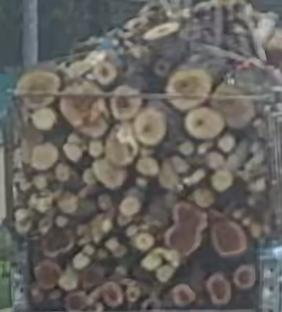large: (60, 80, 108, 138), (165, 200, 207, 256), (166, 69, 213, 110), (211, 86, 256, 128), (16, 70, 61, 106), (106, 124, 139, 166), (134, 106, 167, 146), (212, 219, 247, 256), (186, 107, 225, 139), (110, 85, 142, 120), (93, 158, 126, 189), (42, 227, 74, 258), (206, 273, 232, 306), (35, 259, 61, 289), (101, 281, 124, 307), (173, 284, 195, 306), (66, 292, 87, 311)
medium: (30, 143, 58, 170), (158, 159, 180, 190), (119, 197, 143, 221), (95, 61, 118, 85), (32, 108, 57, 130), (234, 264, 256, 288), (30, 193, 53, 213), (58, 267, 77, 291), (212, 170, 233, 191), (137, 156, 159, 176), (59, 192, 78, 214), (15, 209, 31, 234), (105, 237, 125, 257), (194, 188, 215, 207), (133, 232, 154, 251), (141, 252, 162, 270), (63, 143, 82, 162), (156, 265, 176, 283), (142, 292, 161, 309), (127, 282, 141, 303), (72, 253, 90, 269), (56, 162, 71, 181), (39, 213, 53, 233), (88, 140, 102, 158), (98, 195, 113, 210)
small: (184, 169, 205, 186), (206, 150, 225, 168), (218, 134, 236, 152), (172, 155, 189, 173), (154, 60, 171, 76), (249, 177, 266, 192), (179, 141, 195, 155), (55, 216, 68, 227), (82, 244, 95, 255), (126, 225, 138, 236), (102, 219, 112, 232), (137, 178, 147, 187)
